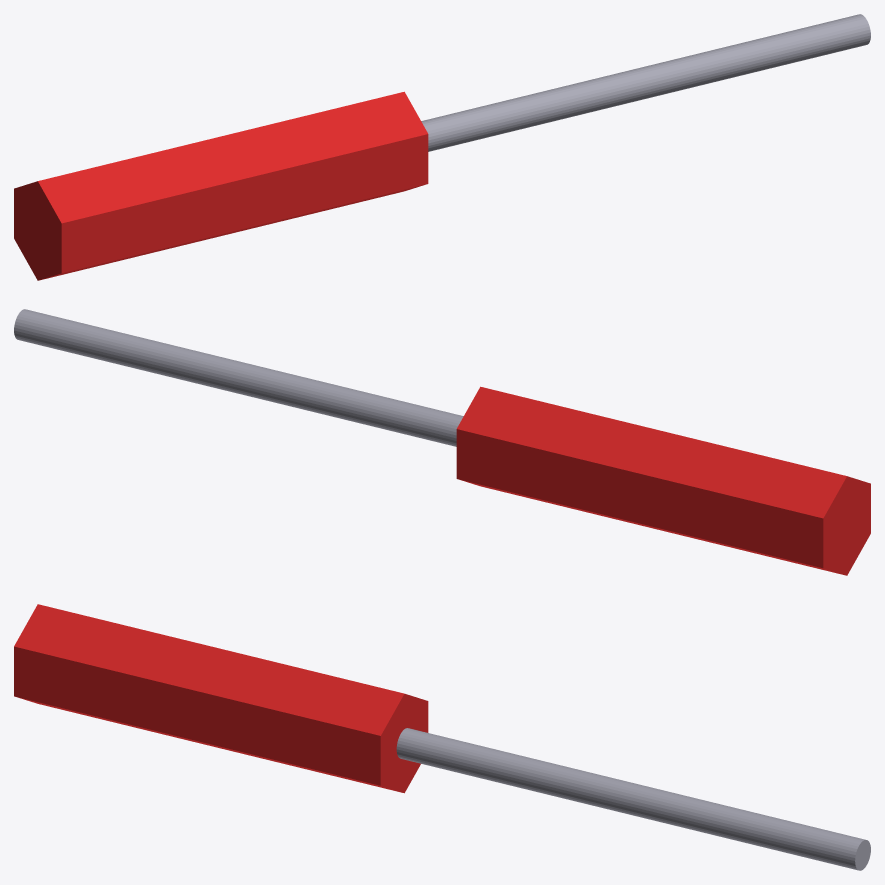
Rendered from screwdriver_complete.obj.
3 views of the same model, one above another, from view 1: azimuth 30°, elevation 25°; view 2: azimuth 150°, elevation 25°; view 3: azimuth 330°, elevation 25° (orthographic).
Visible parts, largest first — view 1: handle, shaft; view 2: handle, shaft; view 3: handle, shaft.
Boxes of the visible parts, left/top/right/bottom form: handle: left=14, top=91, right=428, bottom=280; shaft: left=421, top=14, right=870, bottom=151; handle: left=456, top=386, right=870, bottom=575; shaft: left=14, top=309, right=463, bottom=446; handle: left=14, top=604, right=428, bottom=793; shaft: left=396, top=728, right=870, bottom=870.
Size of the model in its own units: 0.36 by 0.0416 by 0.036.
